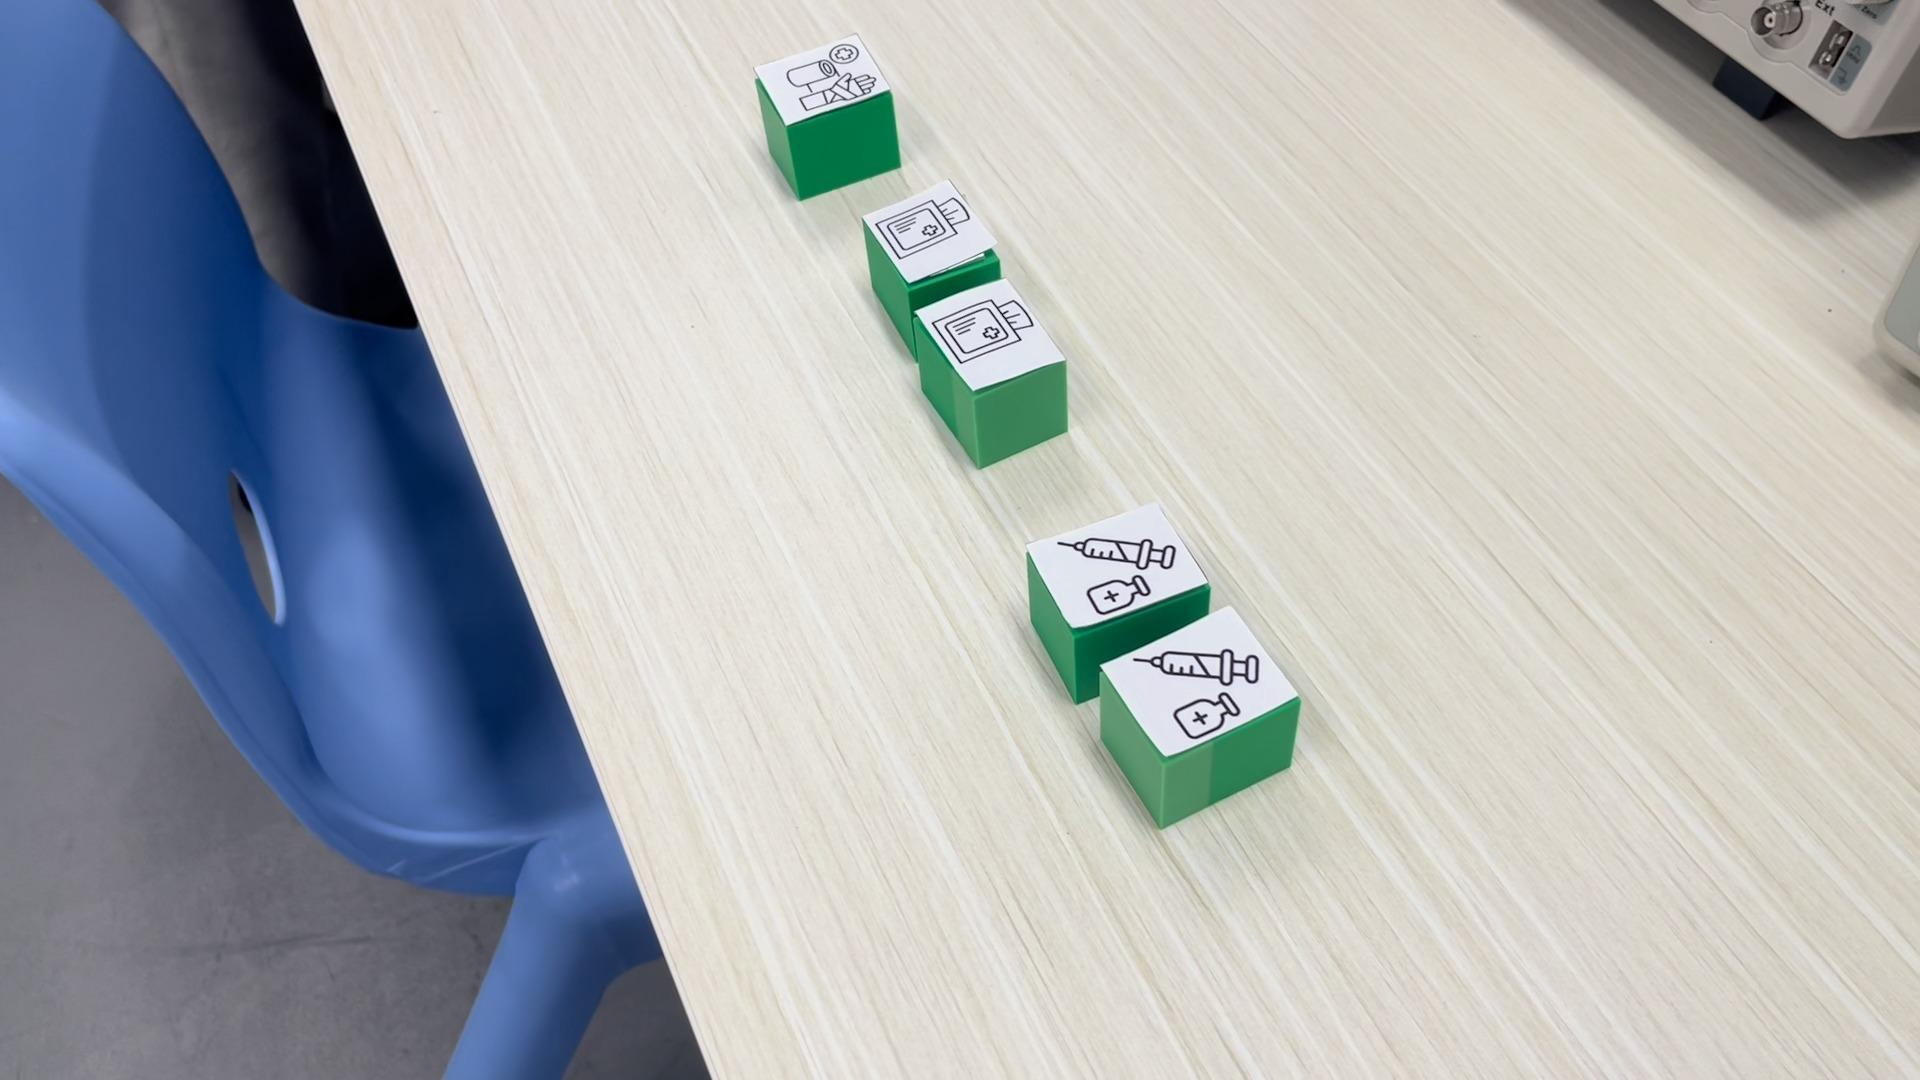Bandages: (750, 33, 902, 199)
Gauze: (911, 272, 1071, 471), (861, 178, 1004, 289)
antiseptic cream: (1098, 605, 1296, 832), (1021, 498, 1211, 640)
